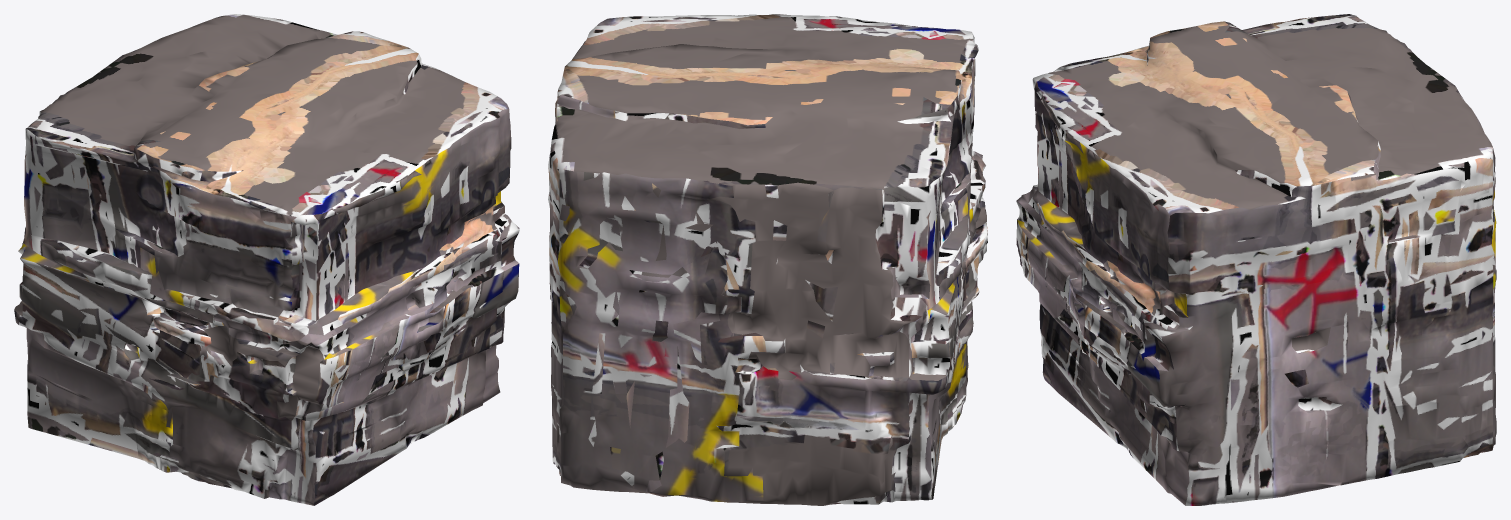
Rendered from lettered-box.obj.
The picture shows the model from 3 angles, left to right: view 1: azimuth 30°, elevation 25°; view 2: azimuth 150°, elevation 25°; view 3: azimuth 270°, elevation 25°; orthographic projection. The views are drawn at different scales.
Size of the model in its own units: 103 by 75.75 by 104.
1 material, 1 textured.
